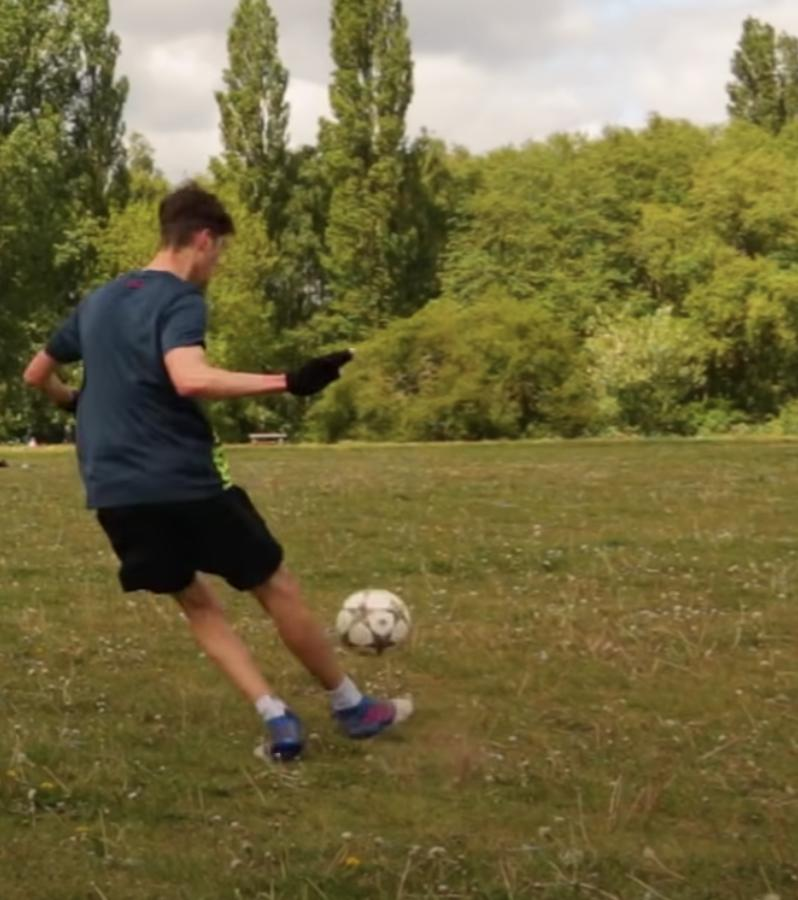ball: (336, 586, 409, 659)
foot: (342, 692, 420, 740), (246, 722, 315, 763)
person: (27, 191, 414, 762)
